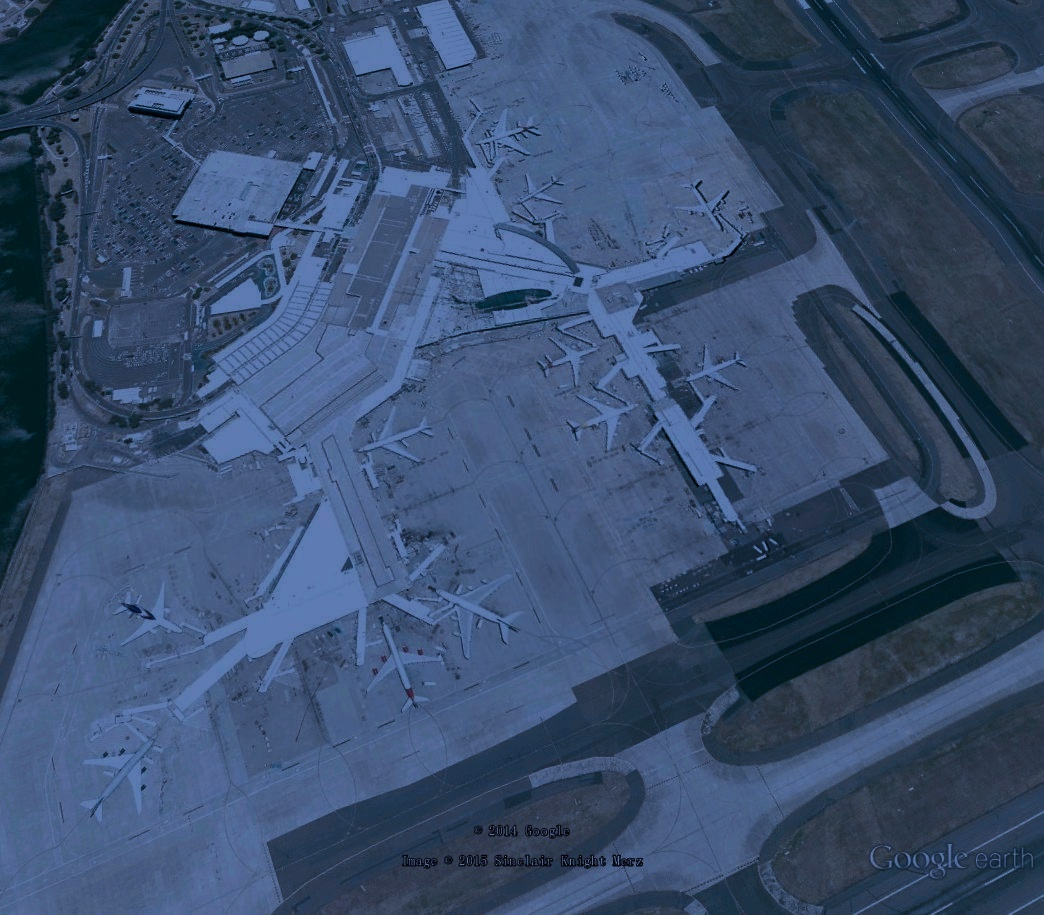aircraft: (431, 573, 528, 666), (359, 617, 446, 716), (74, 733, 161, 831), (351, 402, 439, 467), (111, 577, 187, 647), (565, 391, 645, 457), (680, 341, 750, 398), (469, 105, 545, 157), (669, 175, 732, 236), (536, 335, 603, 391), (514, 169, 566, 213)
